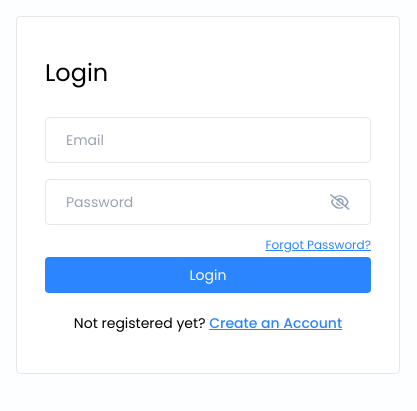
Test case: Login Component › shows error for invalid email
Type "invalid-email" into the field with placeholder "Email".
click(208, 140); type("invalid-email")  # box [45,117,371,163]
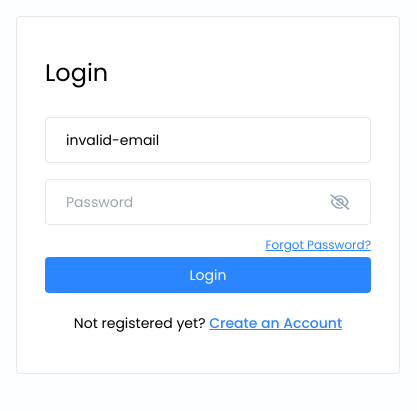
Type "password123" into the password field with placeholder "Password".
click(192, 202); type("password123")  # box [66,180,318,224]
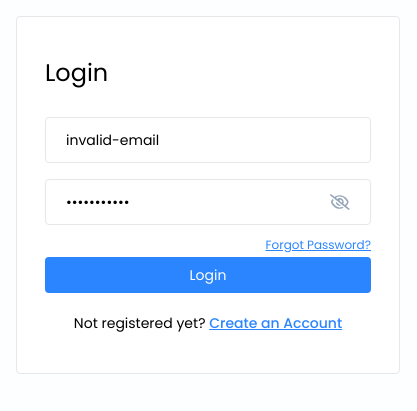
Click the button "Login".
click(208, 275)  # box [45,257,371,293]
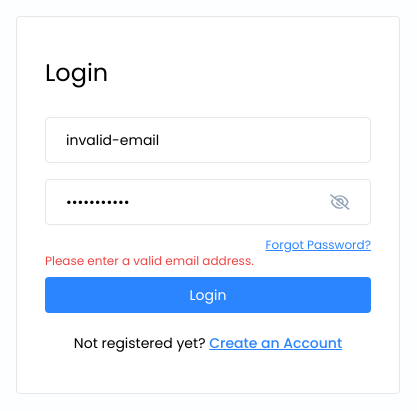
expect the text "Please enter a valid email address." is shown: met, box [45,252,254,269]
